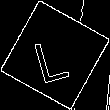L_N: (33, 26, 77, 84)
